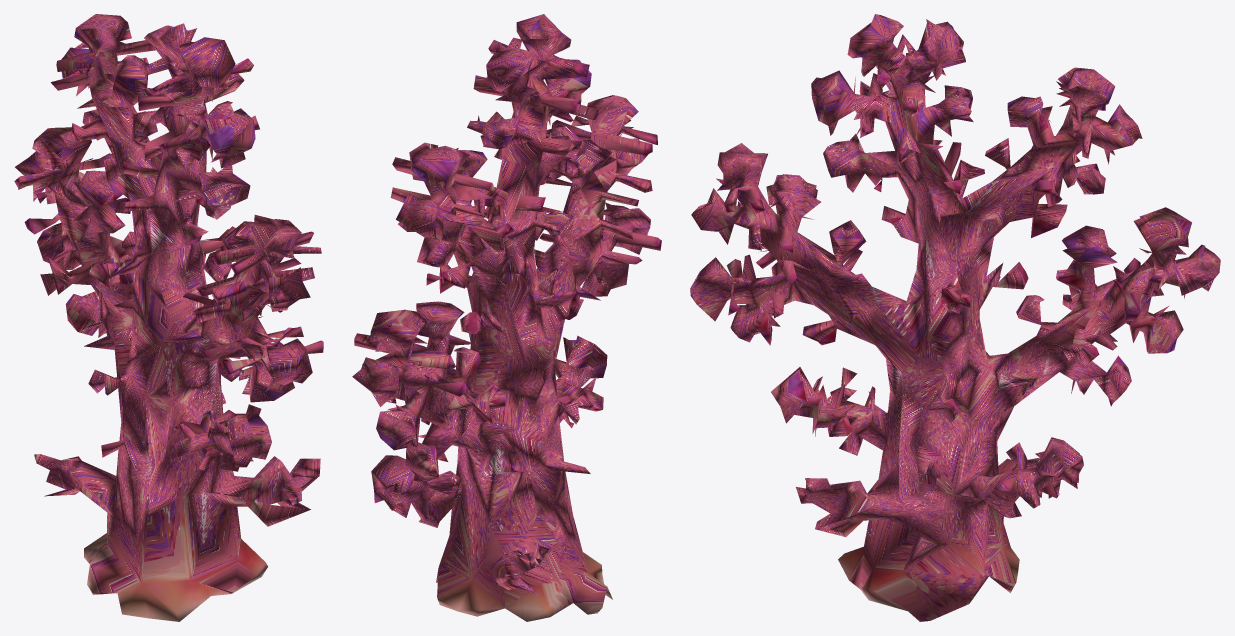
The model's file is zachtkoraal.glb.
3 renders of one model, left to right at view 1: azimuth 30°, elevation 25°; view 2: azimuth 150°, elevation 25°; view 3: azimuth 270°, elevation 25°, orthographic.
Parts seen in each view (by area): view 1: tripo_node_cb393d2c-a083-4d9b-96da-ba5ef20e2f06; view 2: tripo_node_cb393d2c-a083-4d9b-96da-ba5ef20e2f06; view 3: tripo_node_cb393d2c-a083-4d9b-96da-ba5ef20e2f06.
Boxes of the visible parts, x1,y1,x2,y2 form: tripo_node_cb393d2c-a083-4d9b-96da-ba5ef20e2f06: [14, 14, 323, 621]; tripo_node_cb393d2c-a083-4d9b-96da-ba5ef20e2f06: [352, 14, 661, 621]; tripo_node_cb393d2c-a083-4d9b-96da-ba5ef20e2f06: [690, 14, 1220, 621].
Bounding box in the file's own units: 0.0929 × 0.2984 × 0.2502.
Materials: 1 (1 with a texture image).
